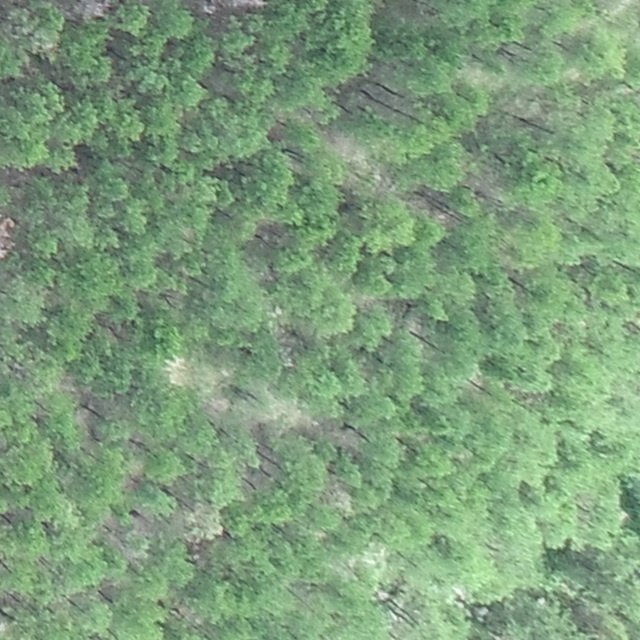unhealthy: (325, 130, 367, 166), (58, 0, 113, 22), (201, 395, 231, 421), (0, 213, 16, 261), (183, 0, 220, 18), (225, 0, 270, 11)
